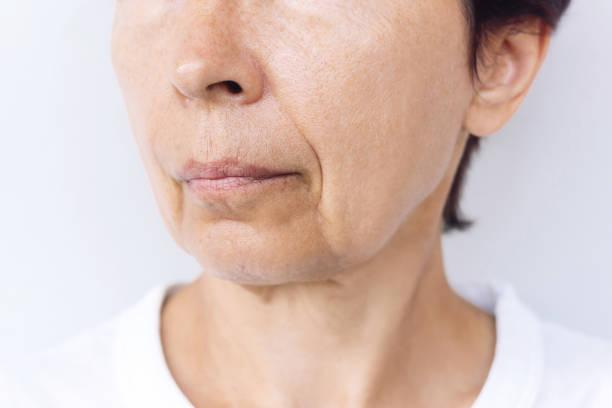Dry-Skin: (299, 21, 391, 143), (409, 52, 506, 151), (200, 196, 292, 253), (172, 12, 244, 83), (227, 177, 297, 223), (341, 213, 416, 241), (116, 107, 156, 127)
